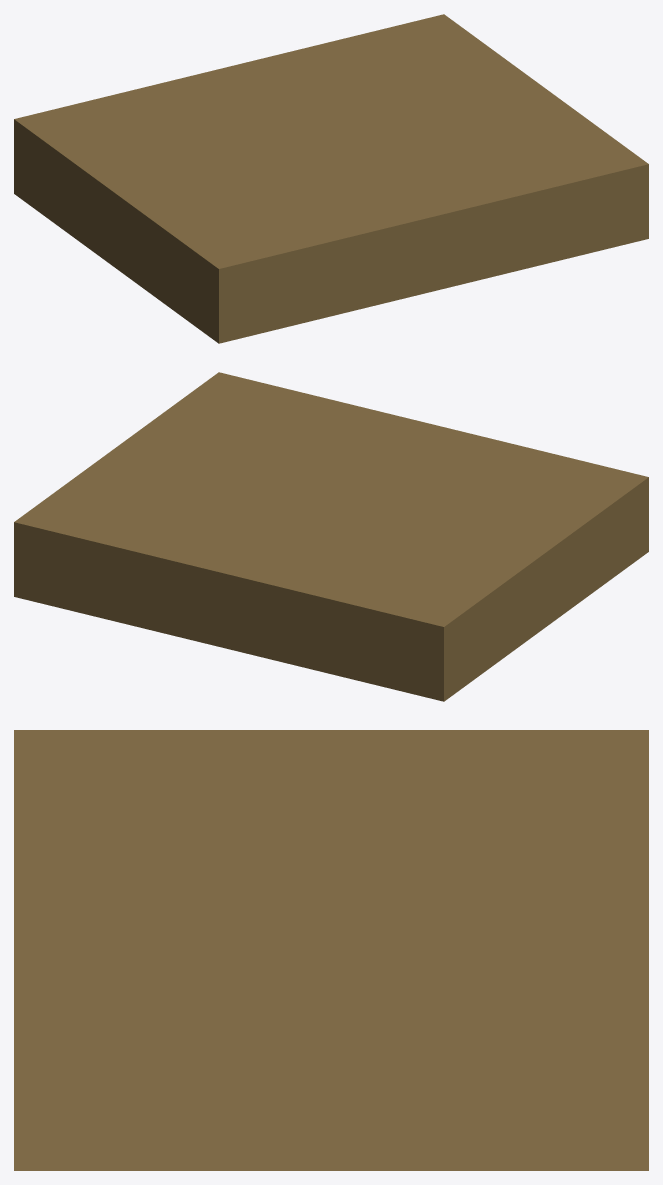
File: Itr_Bartable_Base_Left_01.FBX
3 renders of one model, top to bottom at view 1: azimuth 30°, elevation 25°; view 2: azimuth 150°, elevation 25°; view 3: azimuth 270°, elevation 25°, orthographic. The views are drawn at different scales.
Parts seen in each view (by area): view 1: Itr_Bartable_Base_Left_01; view 2: Itr_Bartable_Base_Left_01; view 3: Itr_Bartable_Base_Left_01.
Part boxes in pixels (x1=…): Itr_Bartable_Base_Left_01: x1=14, y1=14, x2=648, y2=343; Itr_Bartable_Base_Left_01: x1=14, y1=372, x2=648, y2=701; Itr_Bartable_Base_Left_01: x1=14, y1=730, x2=648, y2=1170.
Size of the model in its own units: 23.05 by 3.82 by 19.02.
